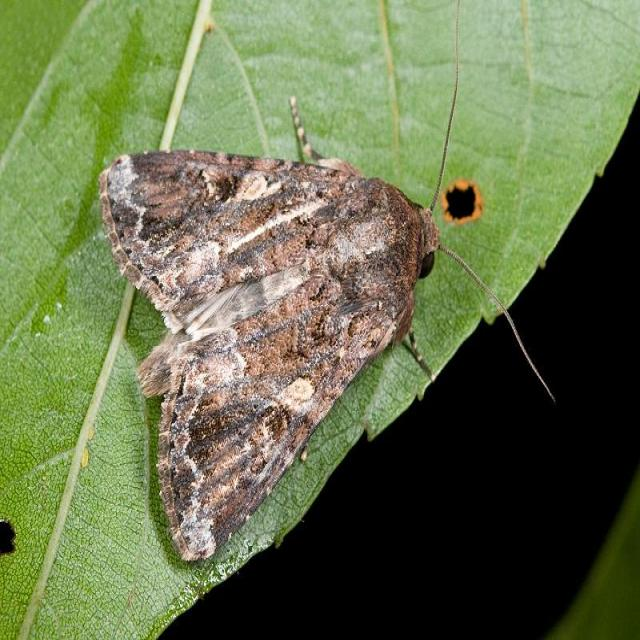BeetArmyWorm-Adult-: (93, 75, 522, 578)
